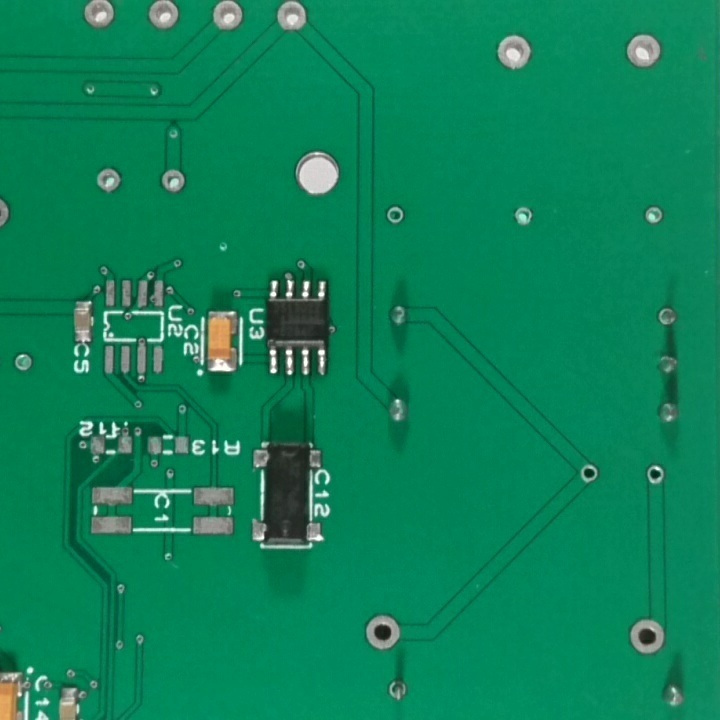F: (619, 27, 666, 72), (493, 28, 536, 77), (361, 607, 404, 652), (625, 615, 669, 658), (274, 1, 313, 40), (207, 1, 246, 36), (79, 1, 118, 35), (145, 1, 182, 32), (92, 162, 124, 196), (159, 166, 190, 197), (655, 302, 680, 332), (8, 350, 36, 376), (640, 200, 666, 227), (511, 204, 536, 230), (386, 675, 409, 703), (644, 463, 667, 489), (579, 463, 601, 488), (385, 204, 405, 227)
